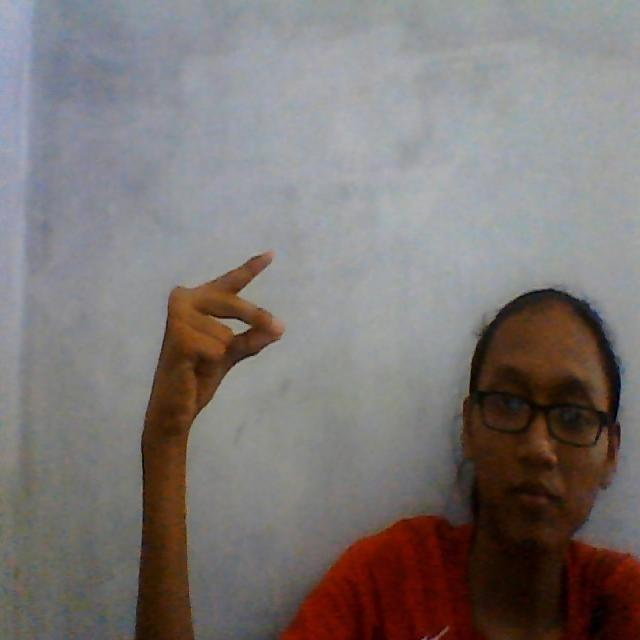R: (122, 228, 320, 469)
